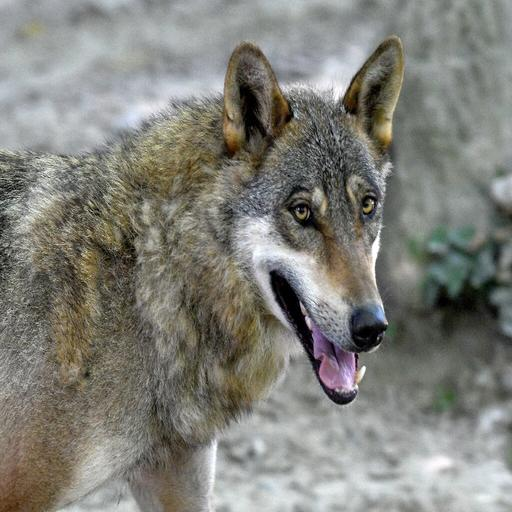Wolf: (0, 37, 405, 505)
